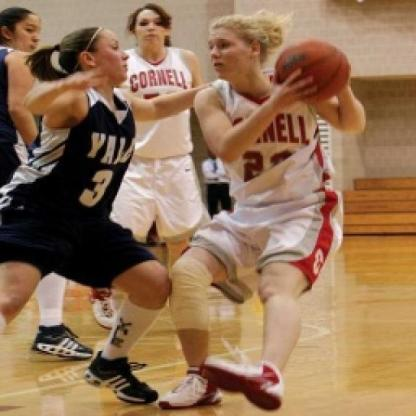basketball: (275, 38, 349, 106)
